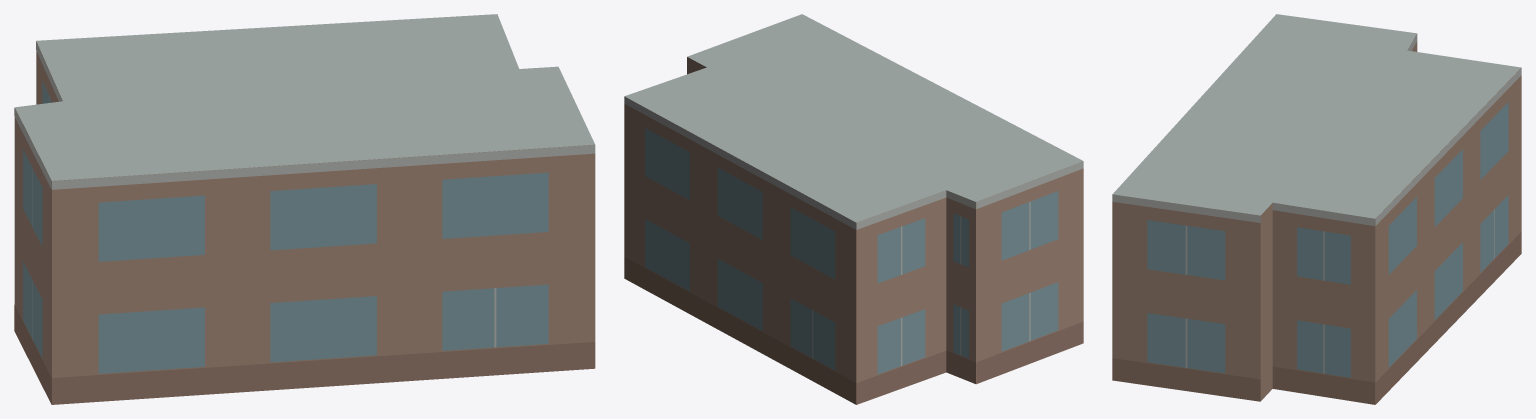
The model's file is survey-upis-32657971.glb.
3 renders of one model, left to right at view 1: azimuth 30°, elevation 25°; view 2: azimuth 150°, elevation 25°; view 3: azimuth 270°, elevation 25°, orthographic. The views are drawn at different scales.
Visible parts, largest first — view 1: survey-upis-32657971.tmp; view 2: survey-upis-32657971.tmp; view 3: survey-upis-32657971.tmp.
Part boxes in pixels (x1,y1,x2,y2): survey-upis-32657971.tmp: (14, 14, 595, 404); survey-upis-32657971.tmp: (624, 14, 1083, 404); survey-upis-32657971.tmp: (1112, 14, 1521, 404).
Bounding box in the file's own units: 14.41 × 6.1 × 12.17.
